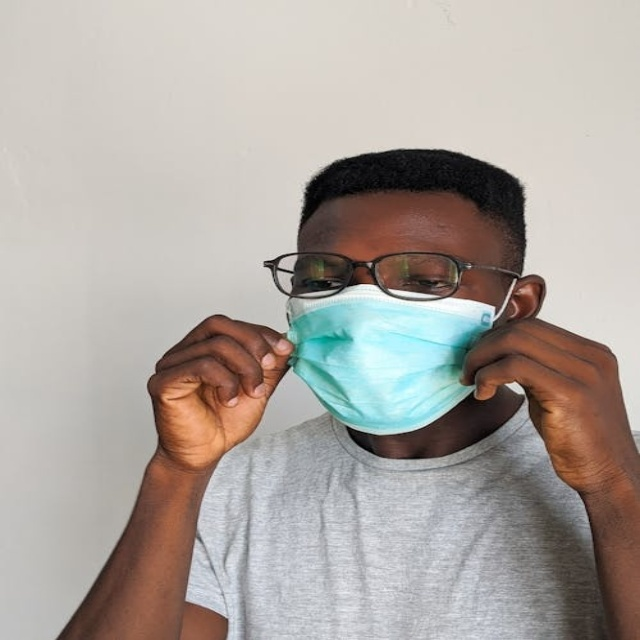Gafas: (263, 252, 524, 306)
Mascara: (281, 284, 504, 434)
Sin_guantes: (458, 311, 635, 477), (140, 313, 298, 473)
